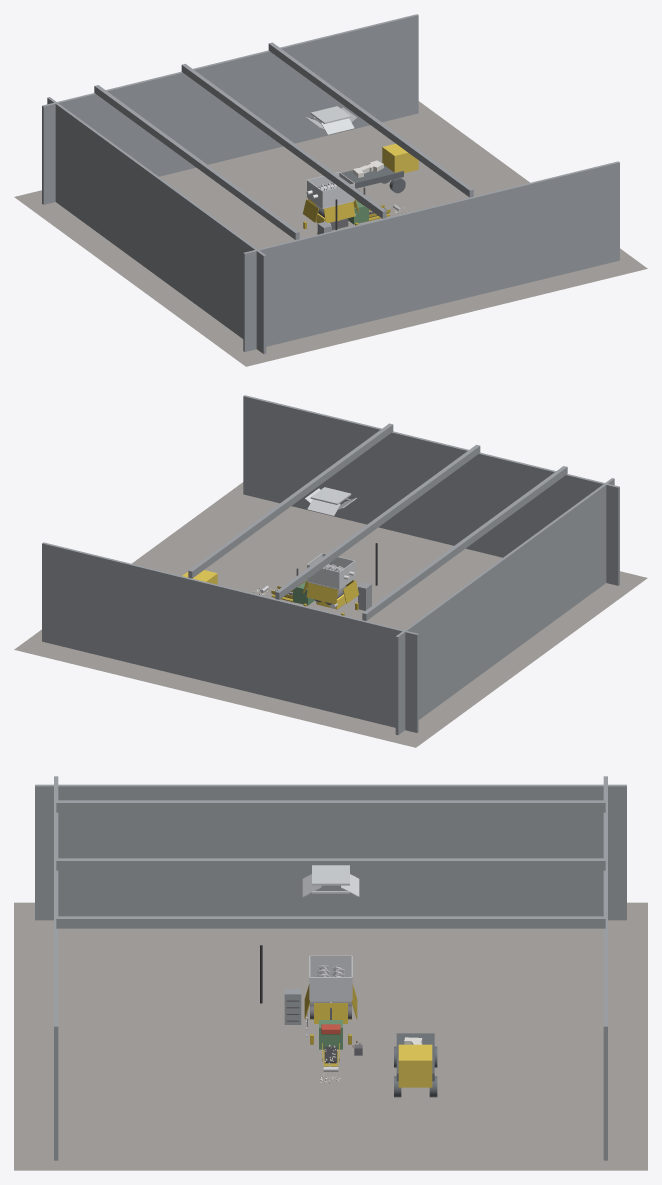
Rendered from Stage2-Shredder-CEE.fbx.
The picture shows the model from 3 angles, top to bottom: view 1: azimuth 30°, elevation 25°; view 2: azimuth 150°, elevation 25°; view 3: azimuth 270°, elevation 25°; orthographic projection. The views are drawn at different scales.
Visible parts, largest first — view 1: S2_Plant_WallLeft, S2_Plant_ConcreteFloor, S2_Plant_WallRight, S2_Plant_WallBack, S2_Plant_RoofTruss_2, S2_Plant_RoofTruss_0, S2_Plant_RoofTruss_1, S2_Truck_Cab, S2_Truck_Bed; view 2: S2_Plant_WallRight, S2_Plant_ConcreteFloor, S2_Plant_WallLeft, S2_Plant_WallBack, S2_Plant_RoofTruss_2, S2_Plant_RoofTruss_0, S2_Plant_RoofTruss_1; view 3: S2_Plant_ConcreteFloor, S2_Plant_WallBack, S2_Plant_RoofTruss_0, S2_Plant_RoofTruss_2, S2_Plant_RoofTruss_1, S2_Plant_WallRight, S2_Plant_WallLeft, S2_Truck_Cab, S2_ShredderChamber_EndWall_1, S2_FeedHopper_Top, S2_ShredderChamber_EndWall_0, S2_ControlCabinet (+2 smaller).
Part boxes in pixels (left/top/right/bottom): S2_Plant_WallLeft: left=243, top=161, right=619, bottom=351; S2_Plant_ConcreteFloor: left=14, top=101, right=647, bottom=366; S2_Plant_WallRight: left=42, top=14, right=418, bottom=204; S2_Plant_WallBack: left=47, top=97, right=266, bottom=353; S2_Plant_RoofTruss_2: left=268, top=42, right=473, bottom=197; S2_Plant_RoofTruss_0: left=94, top=85, right=299, bottom=239; S2_Plant_RoofTruss_1: left=181, top=63, right=386, bottom=218; S2_Truck_Cab: left=382, top=143, right=418, bottom=173; S2_Truck_Bed: left=341, top=165, right=403, bottom=188; S2_Plant_WallRight: left=42, top=542, right=418, bottom=732; S2_Plant_ConcreteFloor: left=14, top=482, right=647, bottom=747; S2_Plant_WallLeft: left=243, top=395, right=619, bottom=585; S2_Plant_WallBack: left=395, top=478, right=614, bottom=734; S2_Plant_RoofTruss_2: left=188, top=423, right=393, bottom=578; S2_Plant_RoofTruss_0: left=362, top=466, right=567, bottom=620; S2_Plant_RoofTruss_1: left=275, top=444, right=480, bottom=599; S2_Plant_ConcreteFloor: left=14, top=902, right=647, bottom=1170; S2_Plant_WallBack: left=35, top=784, right=626, bottom=920; S2_Plant_RoofTruss_0: left=56, top=800, right=605, bottom=812; S2_Plant_RoofTruss_2: left=56, top=916, right=605, bottom=928; S2_Plant_RoofTruss_1: left=56, top=858, right=605, bottom=870; S2_Plant_WallRight: left=603, top=776, right=607, bottom=1160; S2_Plant_WallLeft: left=54, top=776, right=58, bottom=1160; S2_Truck_Cab: left=398, top=1044, right=432, bottom=1087; S2_ShredderChamber_EndWall_1: left=310, top=977, right=351, bottom=1000; S2_FeedHopper_Top: left=312, top=865, right=349, bottom=885; S2_ShredderChamber_EndWall_0: left=310, top=955, right=351, bottom=976; S2_ControlCabinet: left=284, top=989, right=301, bottom=1024.
Bounding box in the file's own units: 3000 × 845 × 3000.
